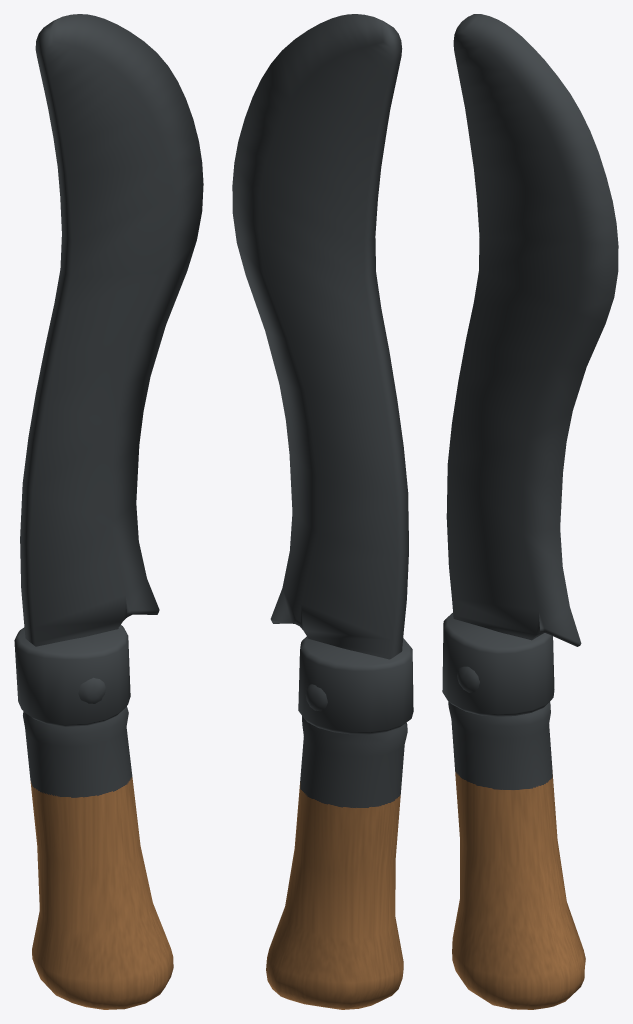
File: seaweed_knife.fbx
3 renders of one model, left to right at view 1: azimuth 30°, elevation 25°; view 2: azimuth 150°, elevation 25°; view 3: azimuth 330°, elevation 25°, orthographic. The views are drawn at different scales.
Visible parts, largest first — view 1: seaweed_knife.001; view 2: seaweed_knife.001; view 3: seaweed_knife.001.
Part boxes in pixels (x1,y1,x2,y2): seaweed_knife.001: (14, 14, 203, 1009); seaweed_knife.001: (232, 14, 413, 1009); seaweed_knife.001: (442, 14, 618, 1009).
Size of the model in its own units: 0.0531 by 0.28 by 0.0312.
Materials: 1 (1 with a texture image).
